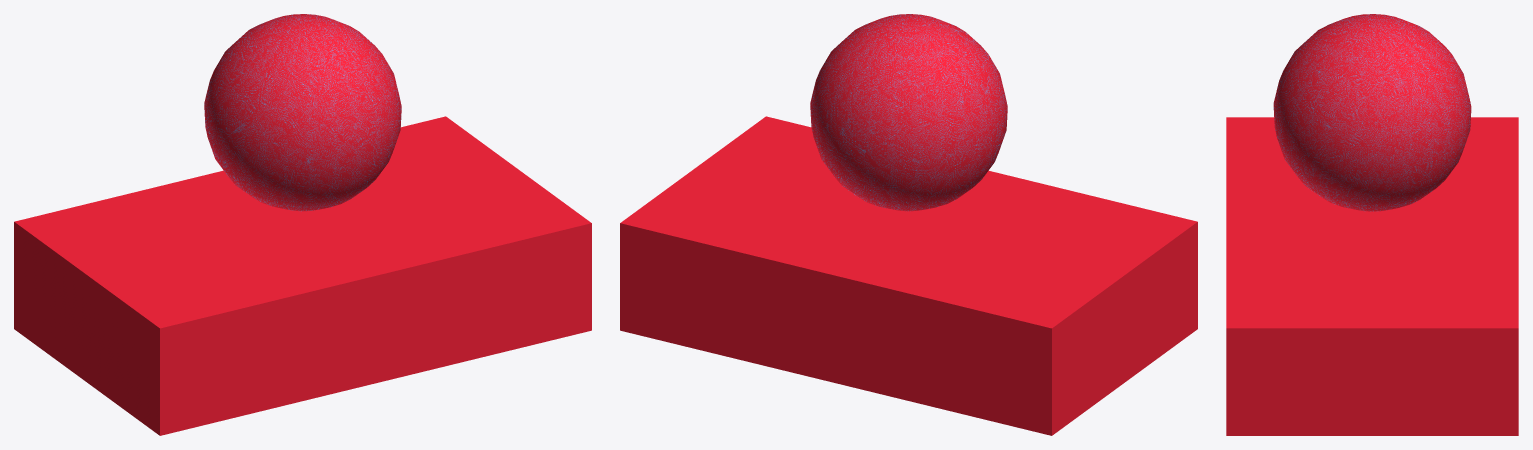
Rendered from 无标题.dae.
3 renders of one model, left to right at view 1: azimuth 30°, elevation 25°; view 2: azimuth 150°, elevation 25°; view 3: azimuth 270°, elevation 25°, orthographic.
Visible parts, largest first — view 1: SketchUp (×2); view 2: SketchUp (×2); view 3: SketchUp (×2).
Boxes of the visible parts, box(x1,y1,x2,y2) form: SketchUp (×2): box(14, 14, 591, 435); SketchUp (×2): box(620, 14, 1197, 435); SketchUp (×2): box(1226, 14, 1518, 435).
Bounding box in the file's own units: 199 × 116 × 134.
